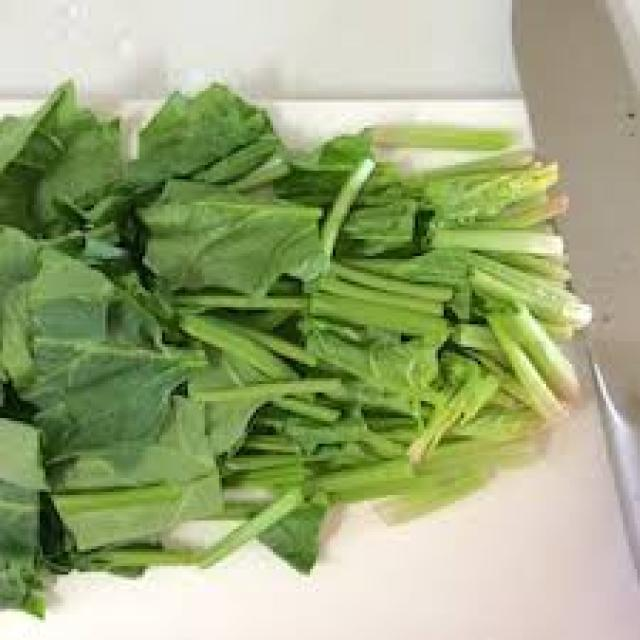Wet Waste: (0, 67, 593, 585)
